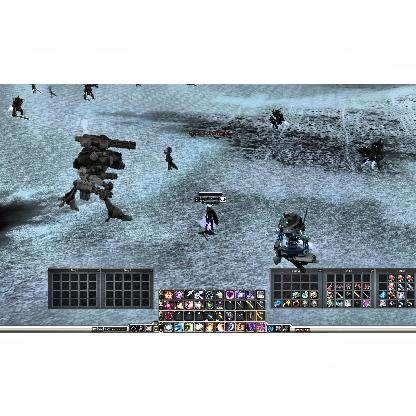caliana: (164, 146, 178, 170), (48, 85, 58, 97), (30, 84, 42, 92)
